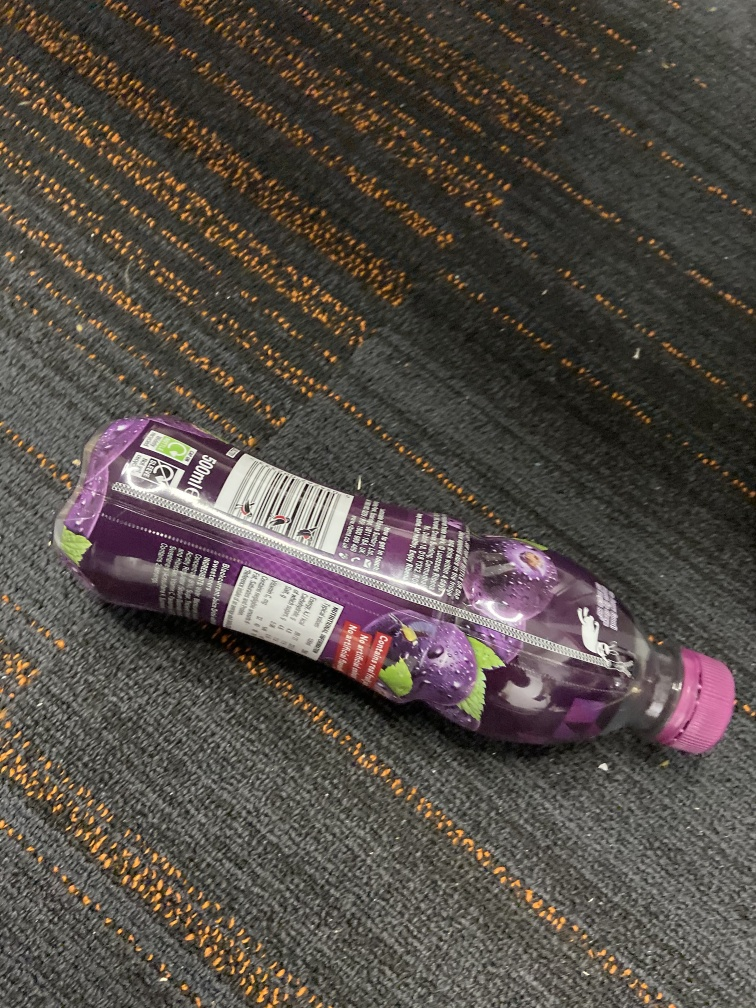bottle_purple: (52, 408, 741, 765)
